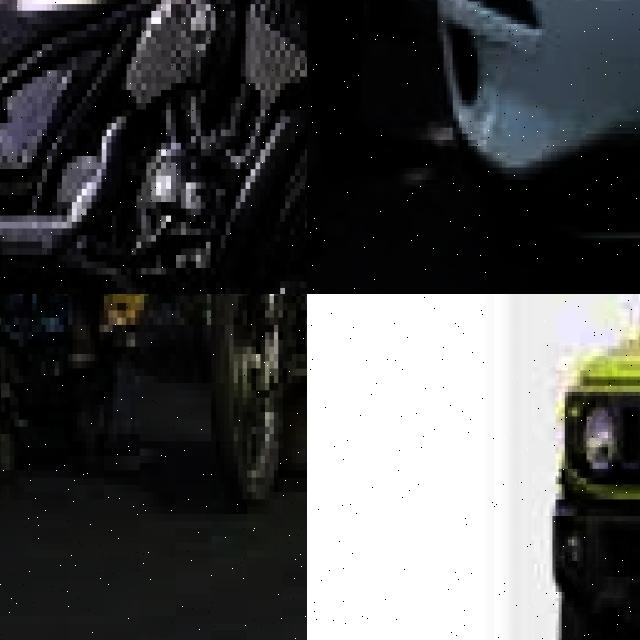bike: (0, 0, 307, 294), (0, 294, 157, 484), (198, 294, 307, 514)
car: (425, 0, 640, 294), (497, 294, 640, 640)
